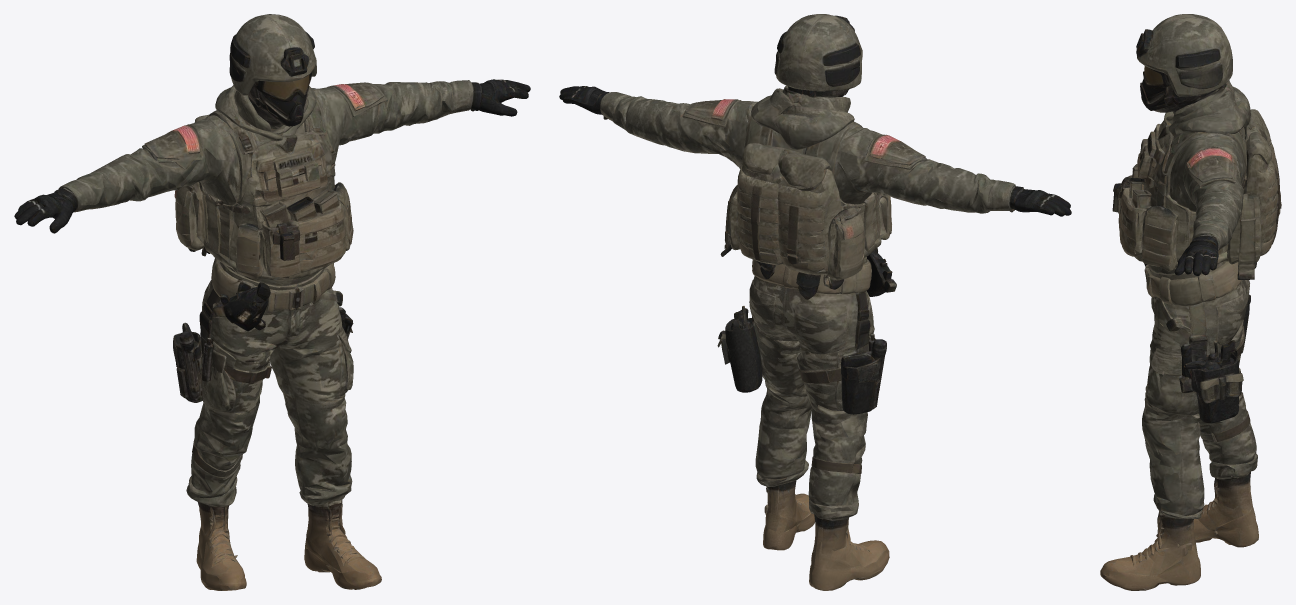
Rendered from soldier.glb.
3 renders of one model, left to right at view 1: azimuth 30°, elevation 25°; view 2: azimuth 150°, elevation 25°; view 3: azimuth 270°, elevation 25°, orthographic. The views are drawn at different scales.
Parts seen in each view (by area): view 1: output_unwrapped; view 2: output_unwrapped; view 3: output_unwrapped.
Boxes of the visible parts, x1,y1,x2,y2 form: output_unwrapped: [14, 14, 530, 590]; output_unwrapped: [559, 14, 1071, 590]; output_unwrapped: [1100, 14, 1281, 590].
Bounding box in the file's own units: 1.86 × 1.9 × 0.5776.
Materials: 1 (1 with a texture image).
